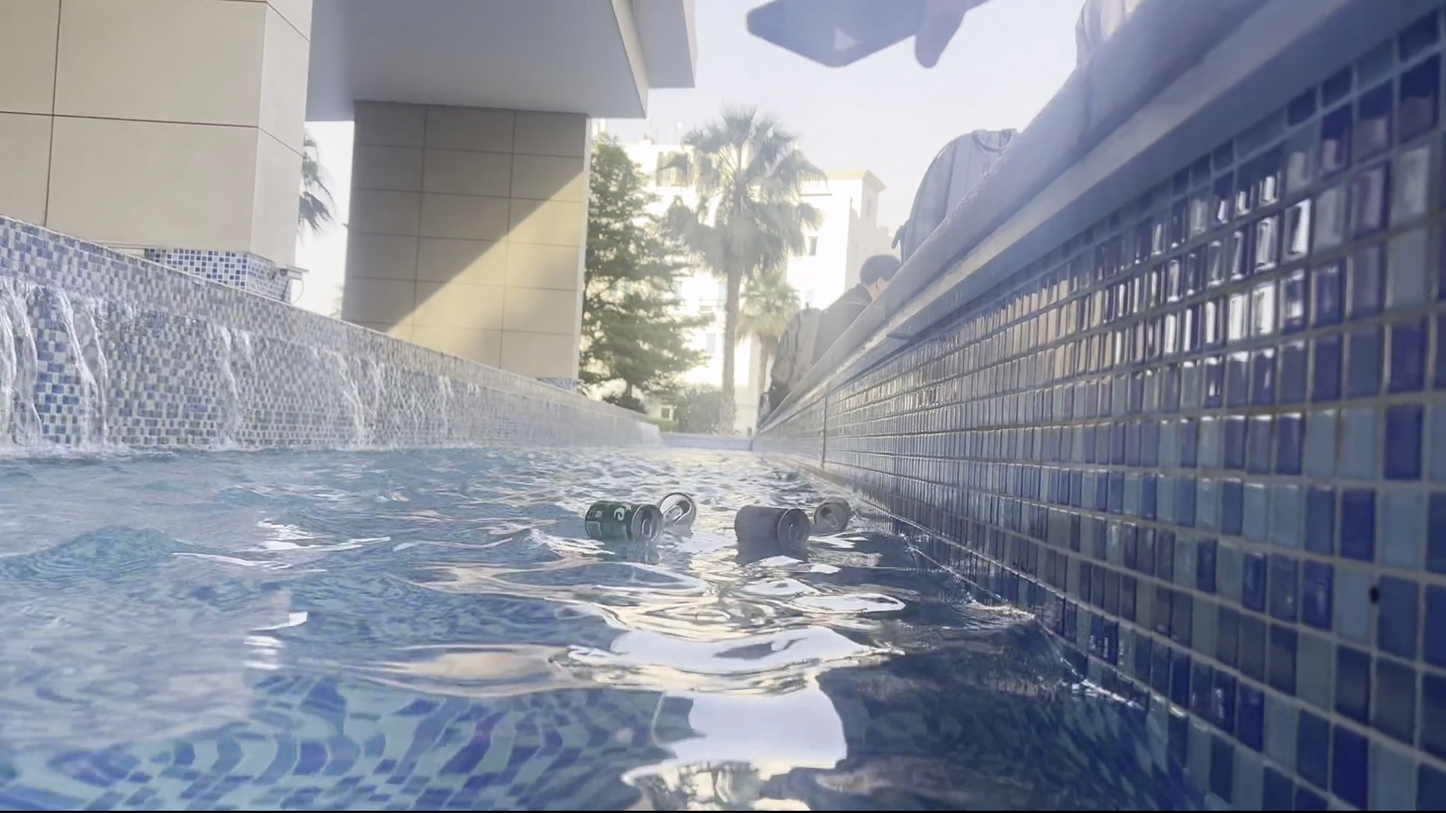debris: (584, 493, 664, 549), (733, 501, 811, 553), (651, 486, 699, 537), (813, 493, 853, 536)
